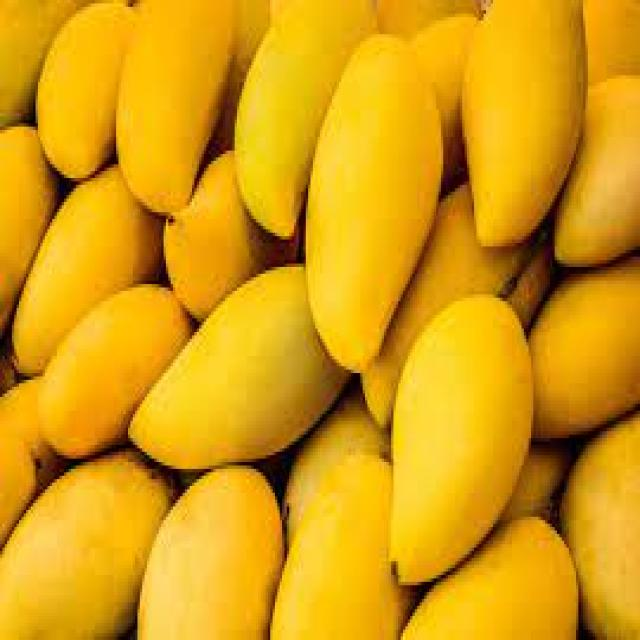mango: (128, 264, 353, 472)
